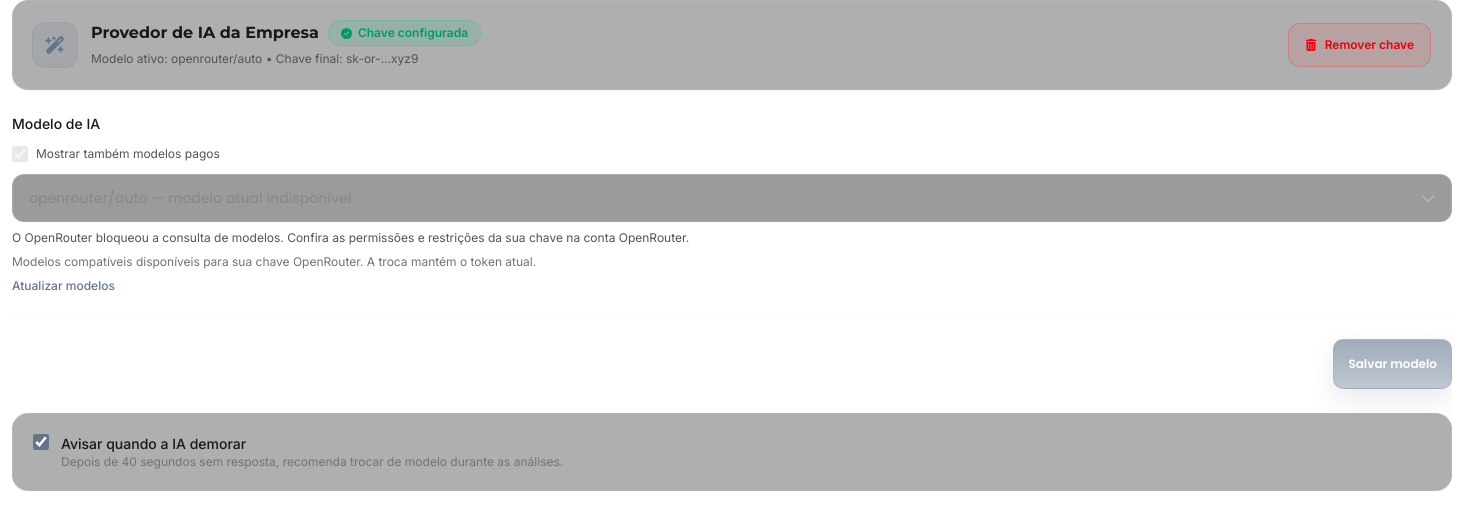
FormIaSettings — cadastro e remoção da chave › falha no catálogo não expõe token nem destrói configuração; botão refaz a consulta
This screenshot has width=1464, height=508.
expect the text "O OpenRouter bloqueou a consulta" is shown: met, box [12,230,689,244]
expect the text "Chave configurada" is shown: met, box [329,21,480,45]
Click the button "Atualizar modelos" at (63, 286), box [12,278,115,294]
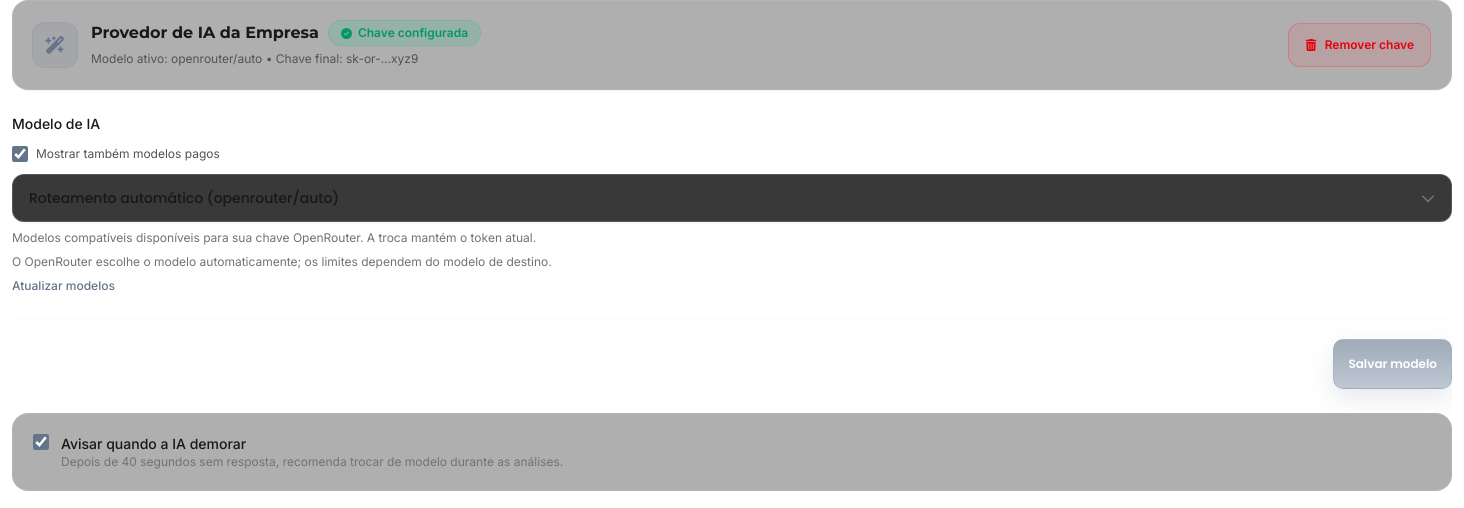
expect the dropdown is enabled: met, box [12,174,1452,222]
